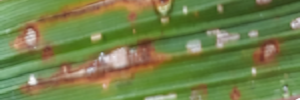RiceBlast: (4, 1, 181, 47), (12, 52, 161, 93), (248, 39, 286, 68)
